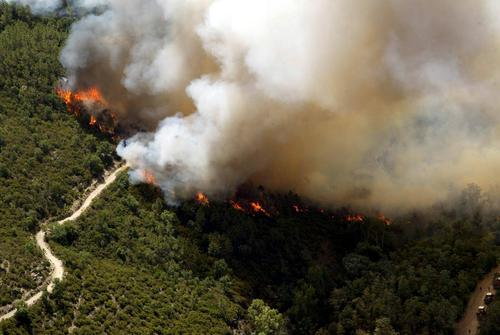fire: (56, 87, 122, 135), (345, 210, 391, 226), (228, 200, 269, 216), (195, 190, 209, 207)
yanwu: (55, 0, 499, 205)
